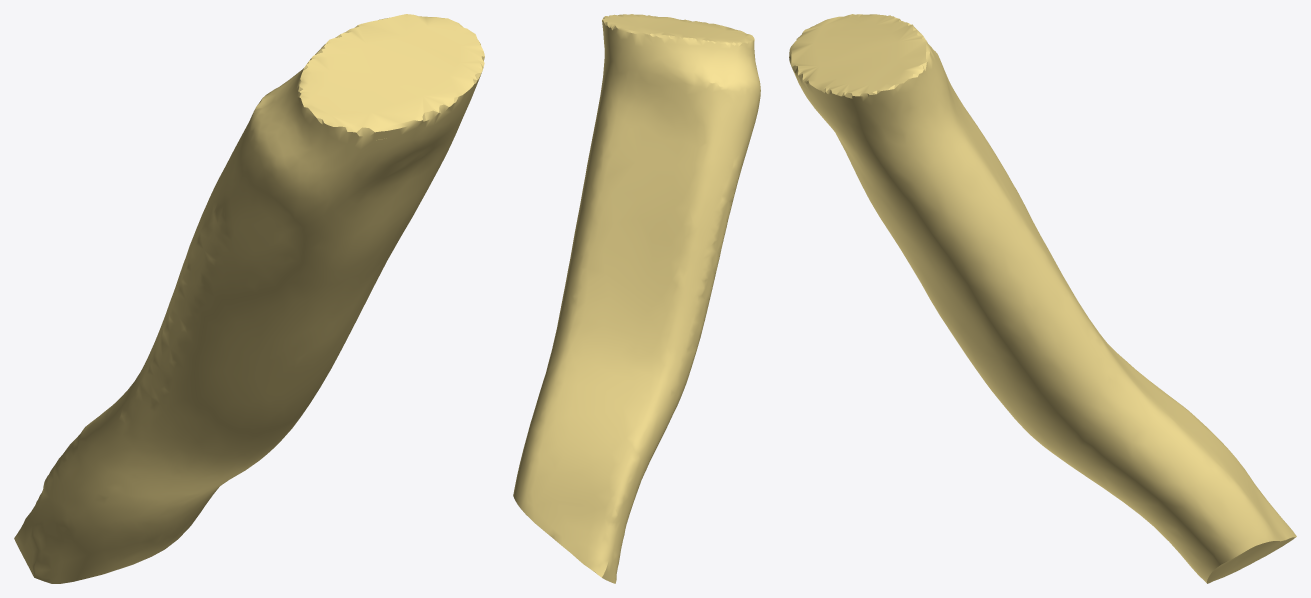
The model's file is fma268268_mm3436.glb.
3 views of the same model, side by side, from view 1: azimuth 30°, elevation 25°; view 2: azimuth 150°, elevation 25°; view 3: azimuth 270°, elevation 25° (orthographic). The views are drawn at different scales.
Parts seen in each view (by area): view 1: FMA268268_MM3436; view 2: FMA268268_MM3436; view 3: FMA268268_MM3436.
Boxes of the visible parts, x1=… form: FMA268268_MM3436: x1=14, y1=14, x2=484, y2=583; FMA268268_MM3436: x1=513, y1=14, x2=760, y2=583; FMA268268_MM3436: x1=789, y1=14, x2=1296, y2=583.
Size of the model in its own units: 0.00615 by 0.0169 by 0.0134.
